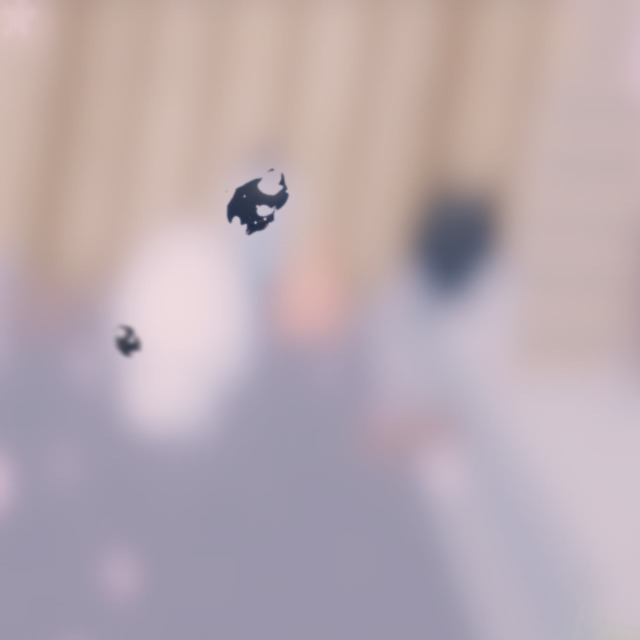urso_preto: (201, 149, 315, 255), (108, 318, 147, 366)
